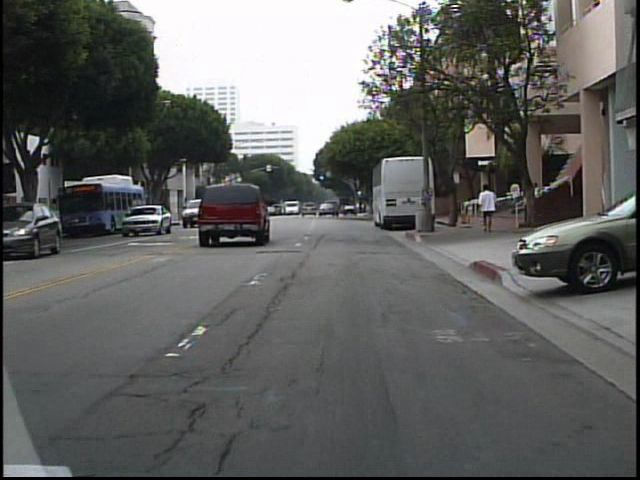person: (477, 183, 501, 237), (462, 195, 476, 225)
